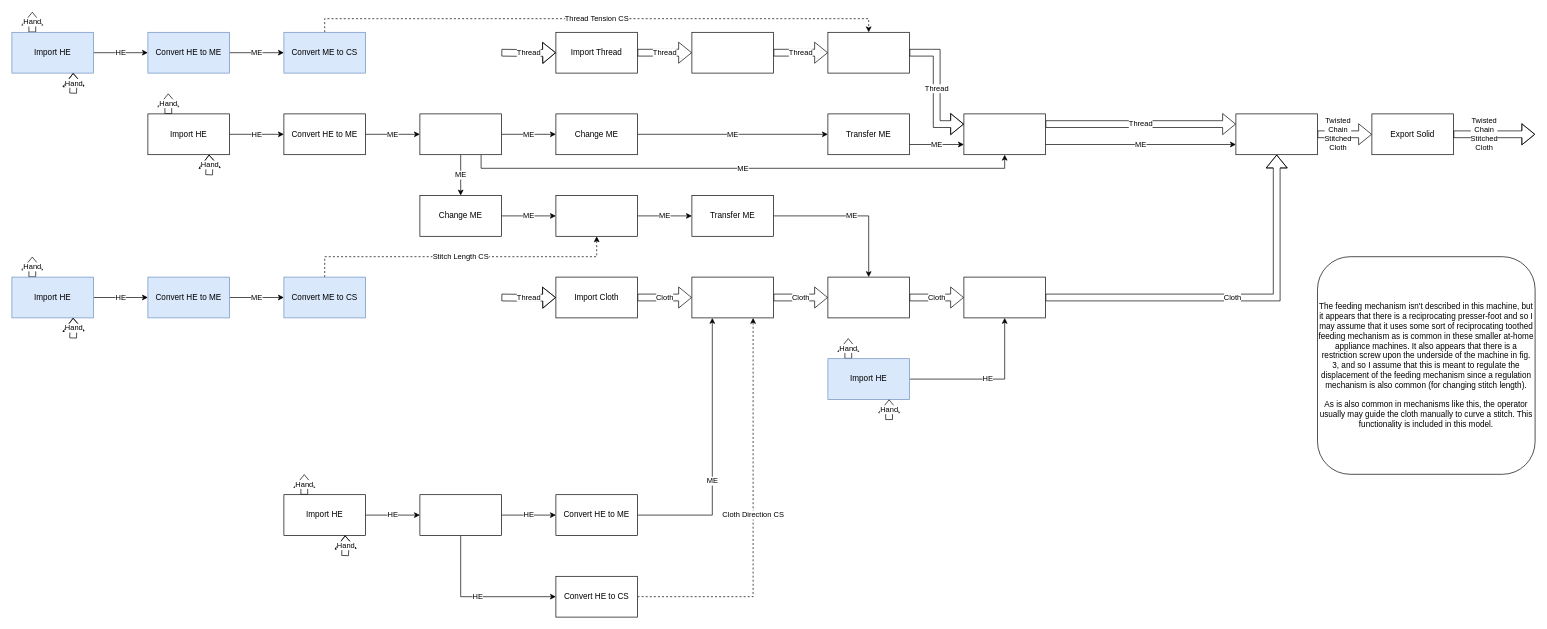
Image size: 1547x629. Some labels were removed from this diagram. Each missing label, with the centre of its shape:
Couple Solids: the point at 1276,134
Distribute HE: the point at 460,515
Distribute ME: the point at 460,134
Guide Cloth: the point at 868,297
Guide Thread (some ME comes from hook): the point at 1004,134
Regulate Cloth: the point at 732,297
Regulate ME: the point at 596,215
Regulate Thread: the point at 868,52
Secure Cloth: the point at 1004,297
Stabilize Thread: the point at 732,52
